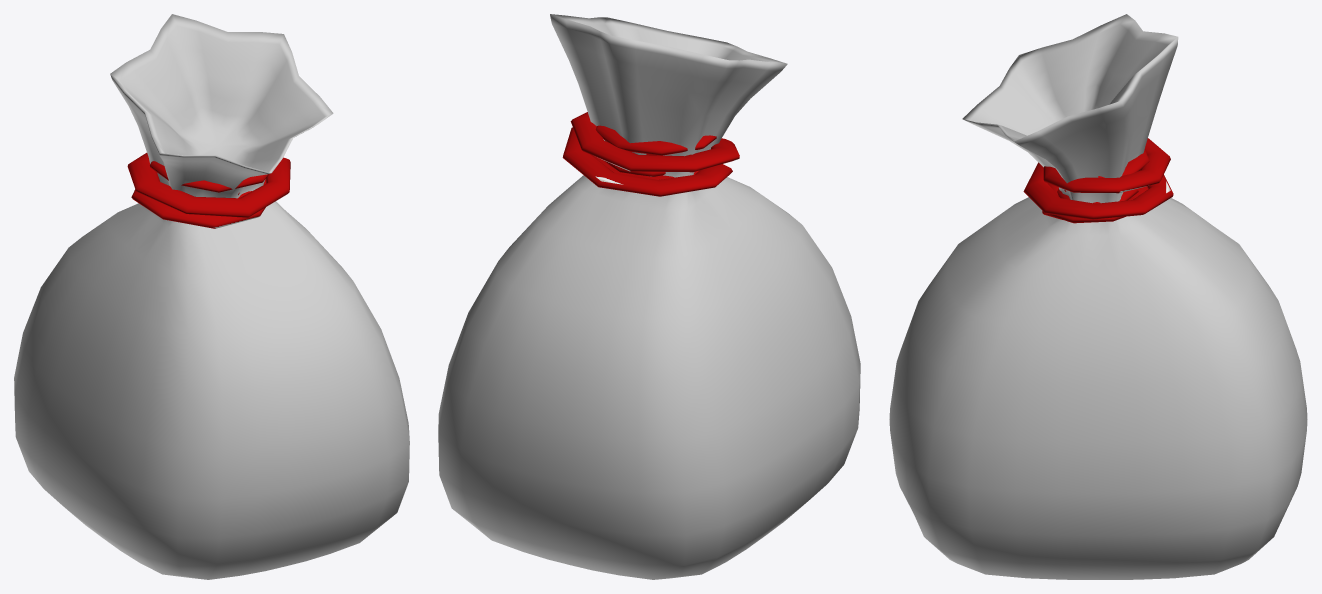
Rendered from SM_SeedBag.fbx.
The picture shows the model from 3 angles, left to right: view 1: azimuth 30°, elevation 25°; view 2: azimuth 150°, elevation 25°; view 3: azimuth 270°, elevation 25°; orthographic projection. The views are drawn at different scales.
Parts seen in each view (by area): view 1: SM_SeedBag; view 2: SM_SeedBag; view 3: SM_SeedBag.
Part boxes in pixels (<box>): SM_SeedBag: <box>14,14,409,579</box>; SM_SeedBag: <box>438,14,860,579</box>; SM_SeedBag: <box>889,14,1307,579</box>.
Bounding box in the file's own units: 35.86 × 57.45 × 42.62.
